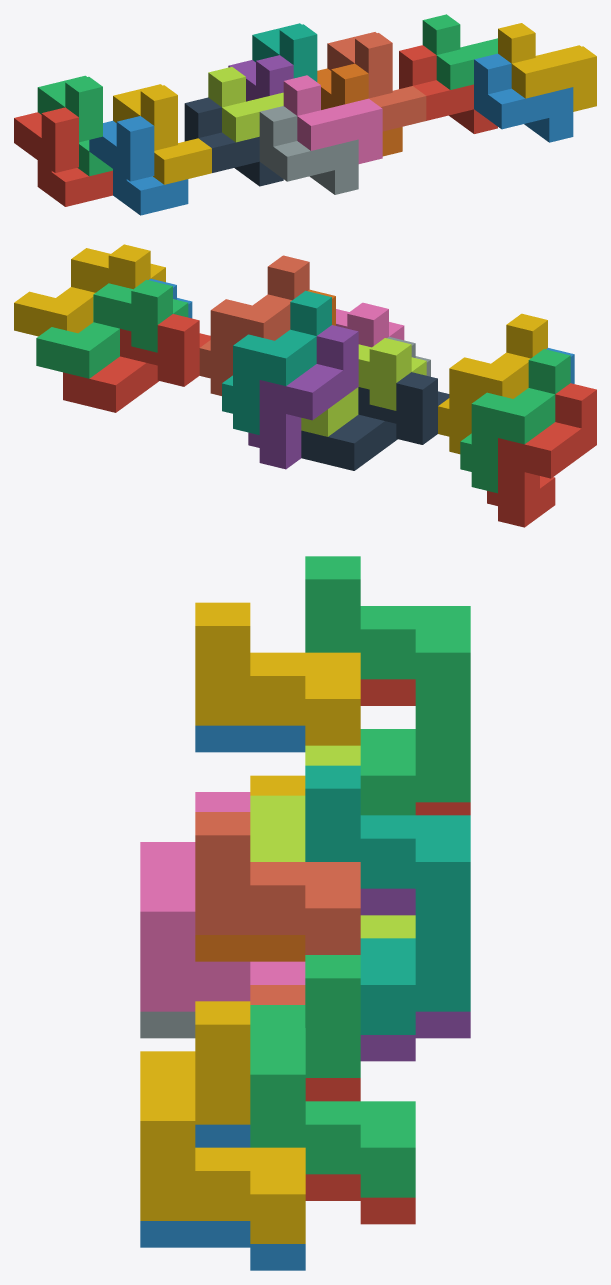
The model's file is tiling.obj.
3 renders of one model, top to bottom at view 1: azimuth 30°, elevation 25°; view 2: azimuth 150°, elevation 25°; view 3: azimuth 270°, elevation 25°, orthographic. The views are drawn at different scales.
Visible parts, largest first — view 1: copy_1_domain_1, copy_1_domain_2, copy_2_domain_8, copy_2_domain_2, copy_2_domain_6, copy_2_domain_4, copy_1_domain_4, copy_1_domain_8, copy_2_domain_1, copy_2_domain_5, copy_1_domain_3, copy_2_domain_7 (+4 smaller); view 2: copy_1_domain_1, copy_2_domain_7, copy_1_domain_5, copy_1_domain_3, copy_1_domain_7, copy_2_domain_5, copy_2_domain_1, copy_2_domain_8, copy_1_domain_8, copy_1_domain_4, copy_2_domain_3, copy_2_domain_4; view 3: copy_1_domain_7, copy_2_domain_8, copy_1_domain_3, copy_2_domain_7, copy_1_domain_4, copy_1_domain_8, copy_2_domain_4, copy_2_domain_3, copy_2_domain_6, copy_1_domain_5, copy_2_domain_5, copy_1_domain_2 (+3 smaller).
Boxes of the visible parts, box(x1,y1,x2,y2) form: copy_1_domain_1: box(14, 107, 112, 206); copy_1_domain_2: box(89, 116, 188, 215); copy_2_domain_8: box(498, 23, 596, 111); copy_2_domain_2: box(259, 106, 358, 194); copy_2_domain_6: box(474, 53, 573, 142); copy_2_domain_4: box(283, 75, 382, 163); copy_1_domain_4: box(113, 84, 211, 184); copy_1_domain_8: box(327, 32, 426, 131); copy_2_domain_1: box(184, 97, 283, 186); copy_2_domain_5: box(399, 45, 497, 133); copy_1_domain_3: box(37, 75, 112, 176); copy_2_domain_7: box(422, 14, 497, 89); copy_1_domain_1: box(487, 383, 596, 527); copy_2_domain_7: box(36, 279, 188, 378); copy_1_domain_5: box(248, 325, 358, 469); copy_1_domain_3: box(460, 349, 570, 493); copy_1_domain_7: box(222, 290, 331, 434); copy_2_domain_5: box(63, 314, 210, 412); copy_2_domain_1: box(301, 372, 449, 470); copy_2_domain_8: box(14, 244, 165, 336); copy_1_domain_8: box(199, 255, 309, 395); copy_1_domain_4: box(438, 313, 547, 454); copy_2_domain_3: box(301, 338, 426, 436); copy_2_domain_4: box(336, 302, 404, 347); copy_1_domain_7: box(305, 765, 470, 1034); copy_2_domain_8: box(140, 1001, 305, 1243); copy_1_domain_3: box(305, 556, 470, 815); copy_2_domain_7: box(250, 955, 415, 1197); copy_1_domain_4: box(195, 602, 360, 795); copy_1_domain_8: box(195, 812, 360, 1004); copy_2_domain_4: box(140, 792, 305, 1011); copy_2_domain_3: box(250, 745, 415, 938); copy_2_domain_6: box(140, 1124, 305, 1270); copy_1_domain_5: box(360, 888, 470, 1061); copy_2_domain_5: box(305, 1078, 415, 1224); copy_1_domain_2: box(195, 725, 305, 752).
Size of the model in its own units: 22 by 5 by 6.
